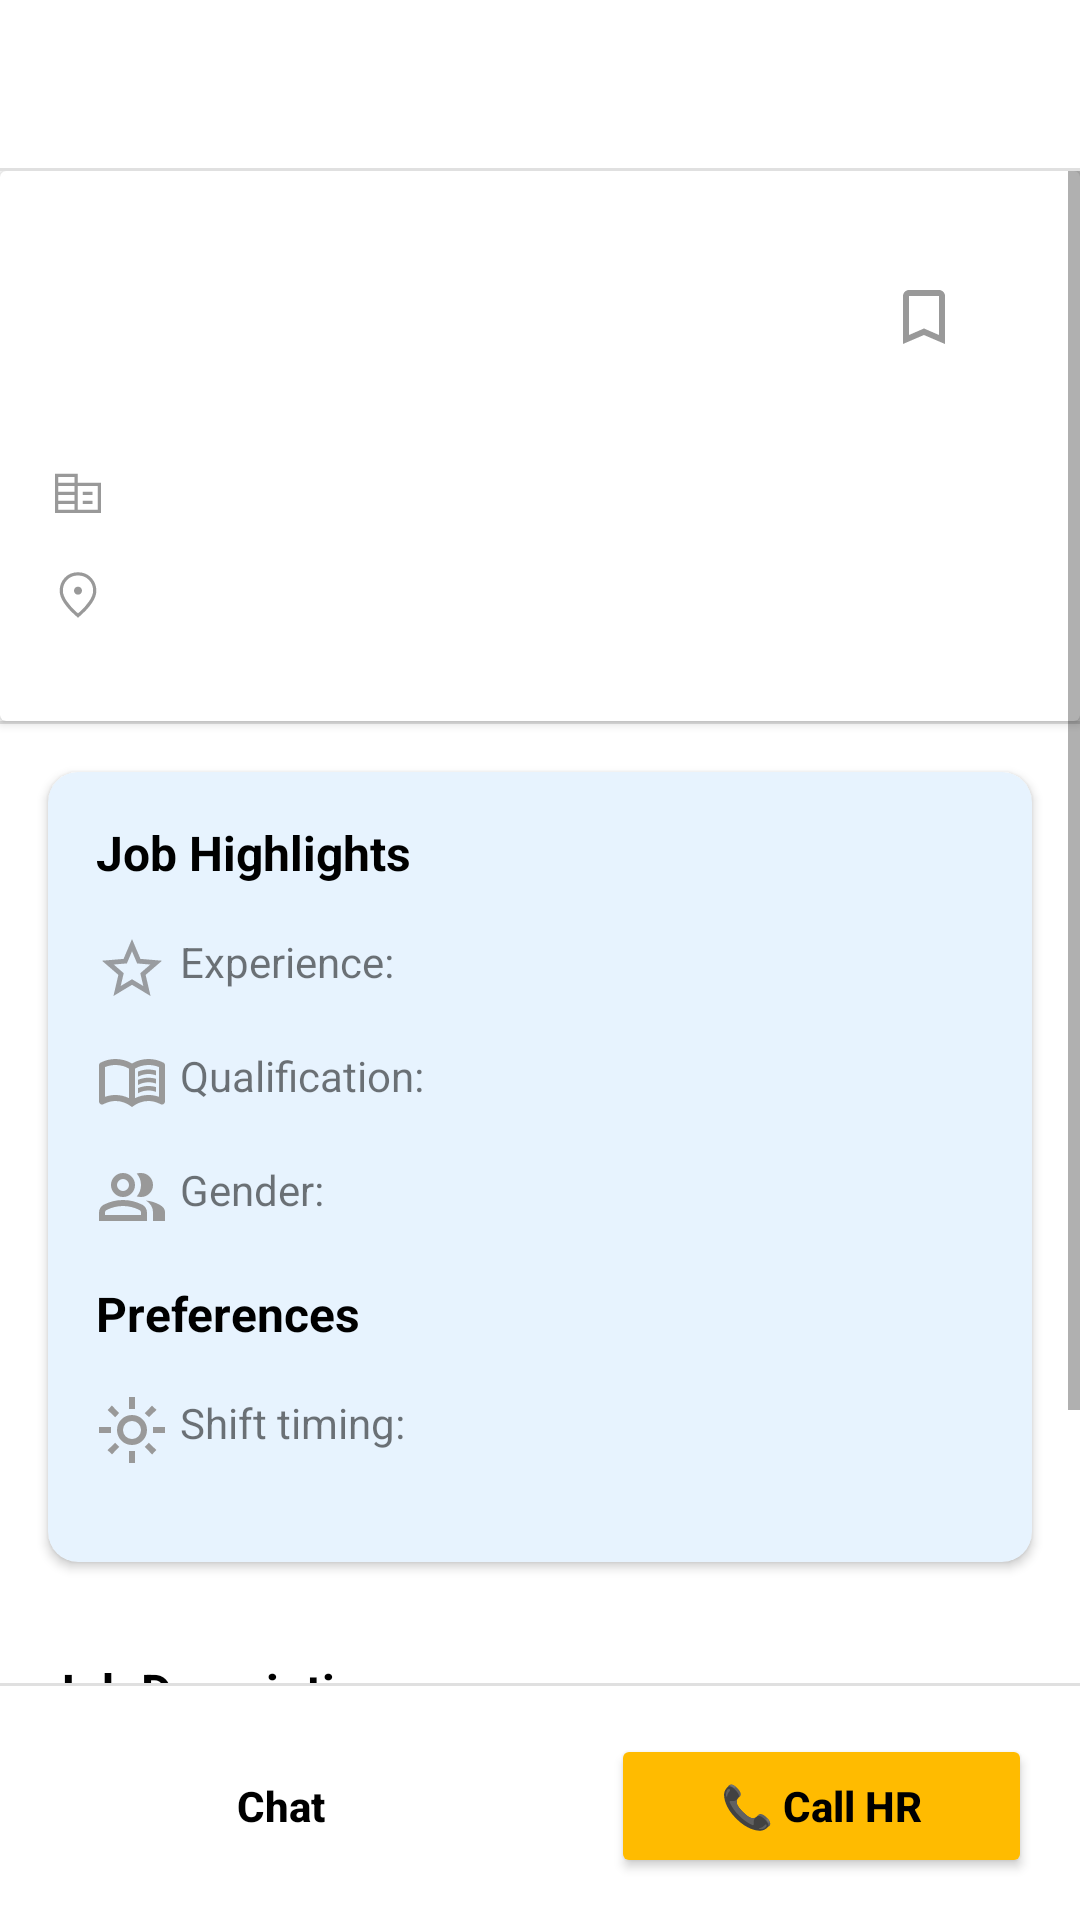

Screen size 1080 × 1920. Icon name, then its center in pixels as [x,y]:
bookmark item: [924,317]
